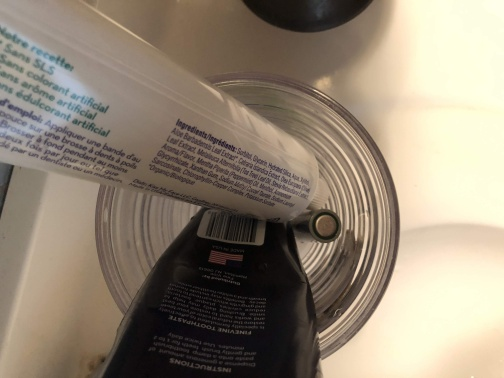battery: (285, 207, 343, 245)
